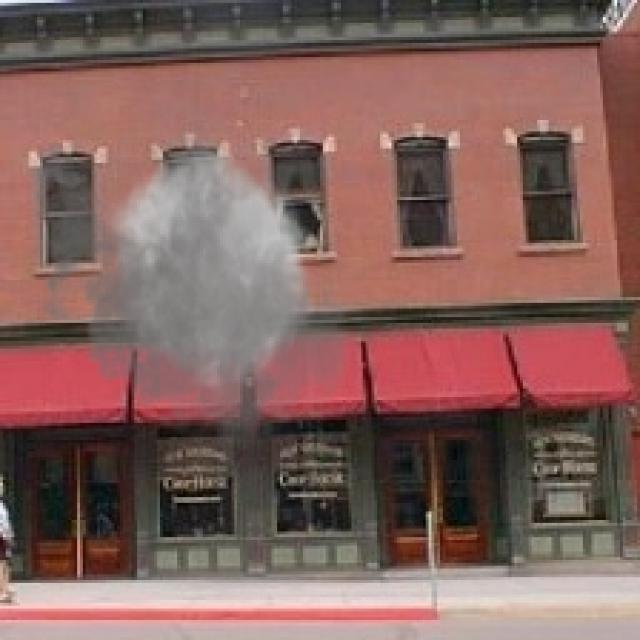smoke: (20, 80, 363, 460)
